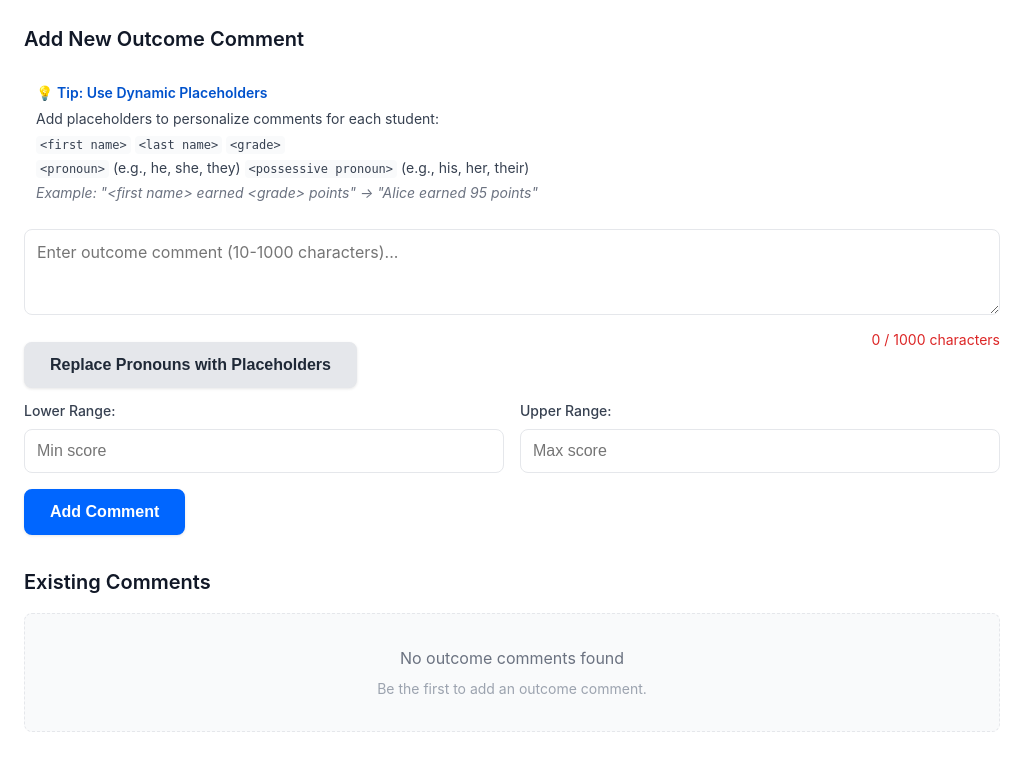
Test: OutcomeCommentsModal - Replace Pronouns Button (Story 1) › Button State Management › should show success message when pronouns are replaced
// Set text with pronouns
Type "He is great and his work is excellent" into the text box named "Add new outcome comment".
click(512, 272); type("He is great and his work is excellent")  # box [24,229,1000,315]
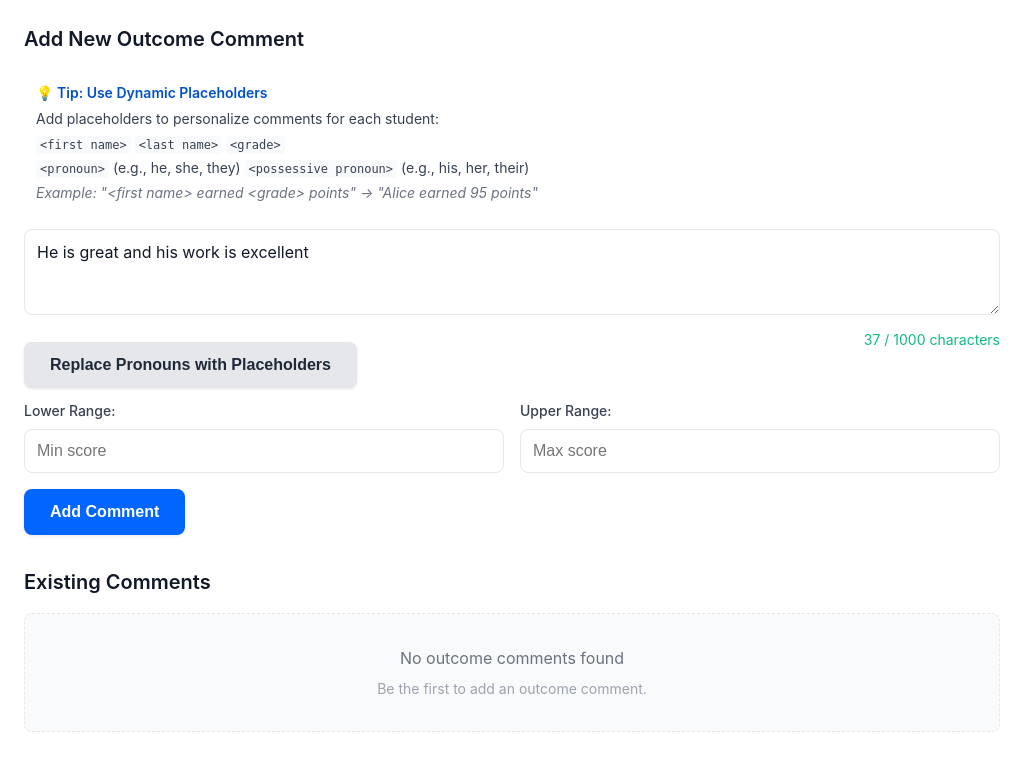
// Click the button
Click the button "Replace Pronouns with Placeholders".
click(190, 365)  # box [24,342,357,388]
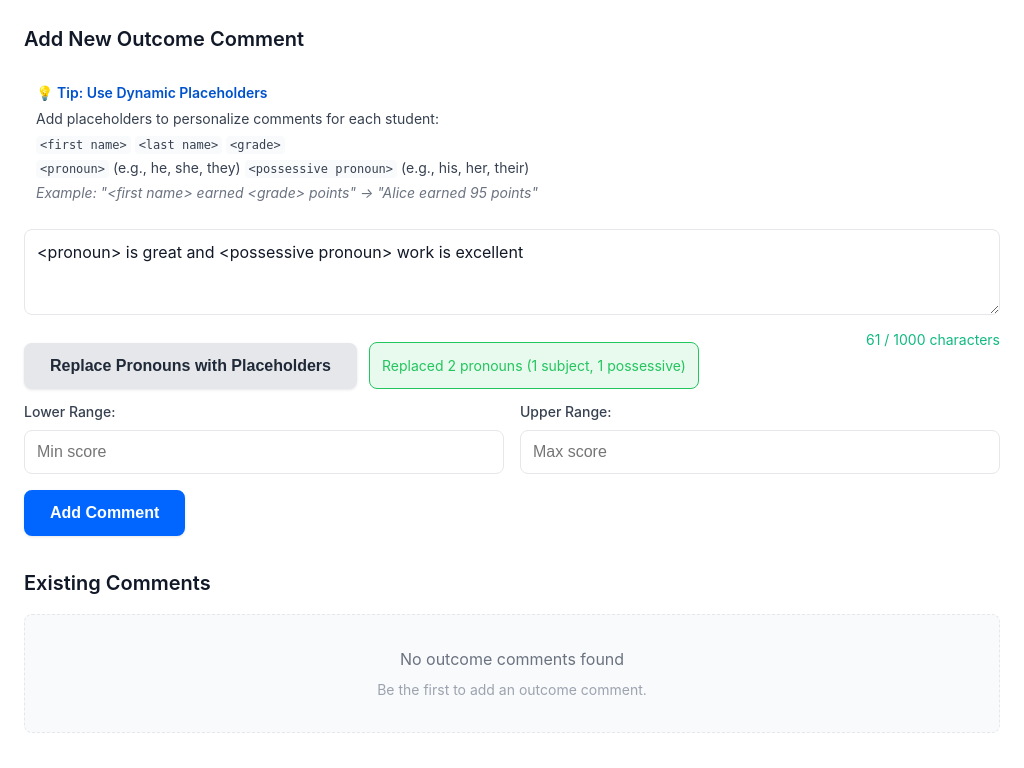
Result: the text "Replaced 2 pronouns (1 subject, 1 possessive)" is shown at [369,342,699,389]
